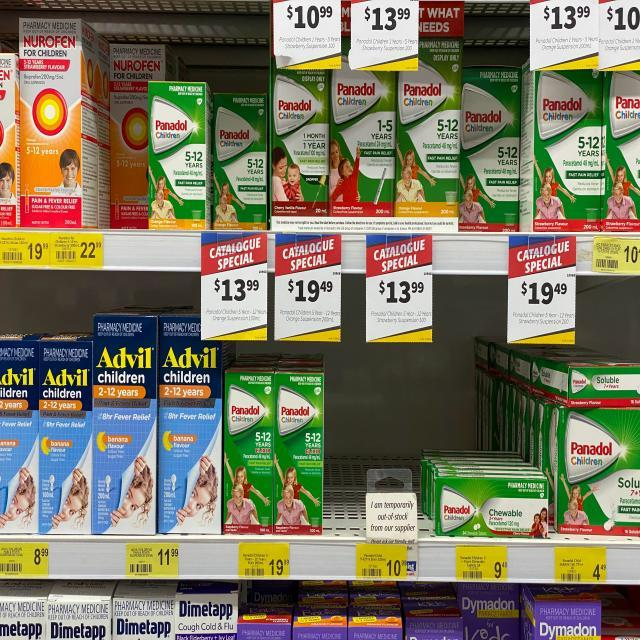Imprecise: (459, 40, 536, 234), (101, 38, 166, 232), (206, 74, 272, 228), (460, 582, 533, 640)
